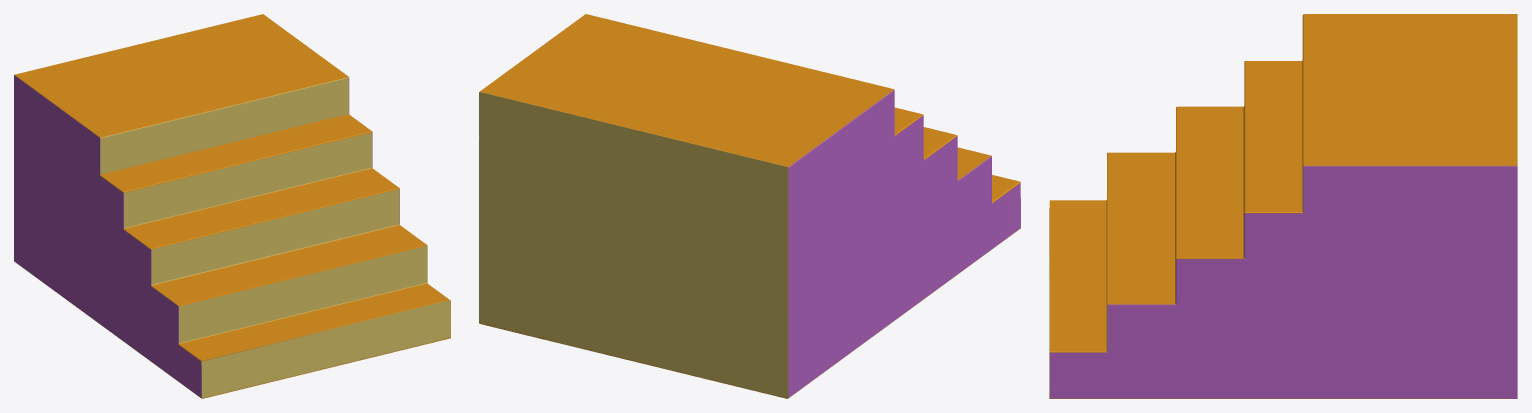
Rendered from GEO_Stock_4.glb.
3 renders of one model, left to right at view 1: azimuth 30°, elevation 25°; view 2: azimuth 150°, elevation 25°; view 3: azimuth 270°, elevation 25°, orthographic. The views are drawn at different scales.
Visible parts, largest first — view 1: Box; view 2: Box; view 3: Box.
Part boxes in pixels (x1=…): Box: x1=14, y1=14, x2=450, y2=398; Box: x1=479, y1=14, x2=1020, y2=398; Box: x1=1049, y1=14, x2=1517, y2=398.
Size of the model in its own units: 1 by 0.7169 by 1.3.
